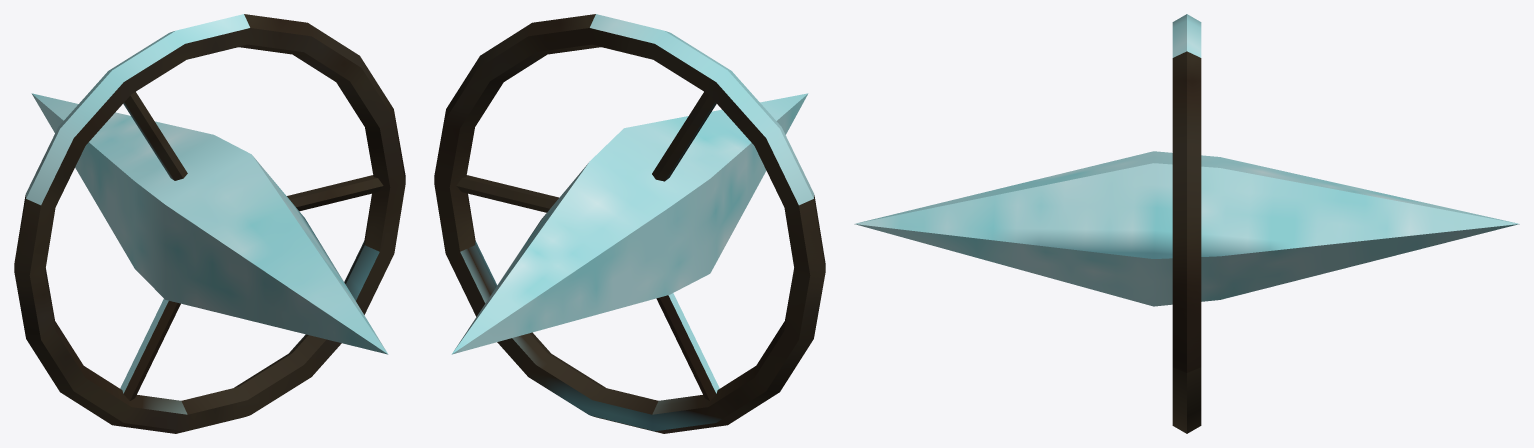
The model's file is Vortidos_Drone.fbx.
3 renders of one model, left to right at view 1: azimuth 30°, elevation 25°; view 2: azimuth 150°, elevation 25°; view 3: azimuth 270°, elevation 25°, orthographic. The views are drawn at different scales.
Parts seen in each view (by area): view 1: Rotor, Body; view 2: Rotor, Body; view 3: Body, Rotor.
Boxes of the visible parts, x1=… form: Rotor: x1=14, y1=14, x2=405, y2=433; Body: x1=31, y1=93, x2=388, y2=354; Rotor: x1=434, y1=14, x2=825, y2=433; Body: x1=451, y1=93, x2=808, y2=354; Body: x1=854, y1=151, x2=1519, y2=306; Rotor: x1=1172, y1=14, x2=1201, y2=433.
Bounding box in the file's own units: 304 × 299 × 480.
